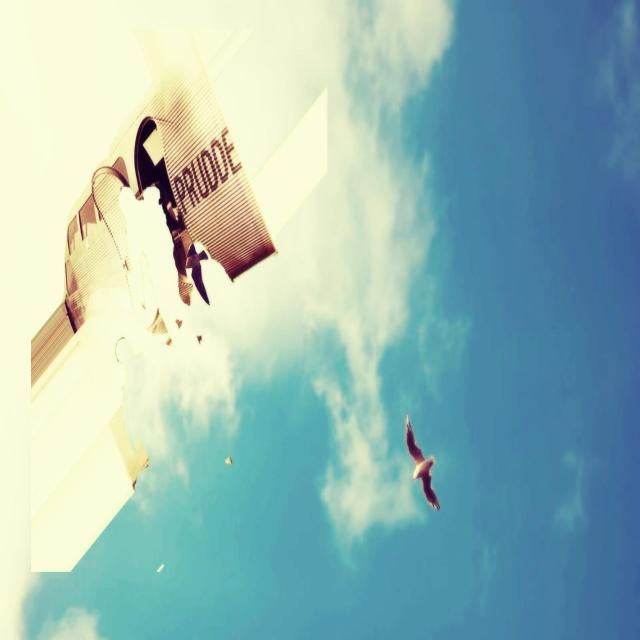airplane: (29, 26, 328, 572)
